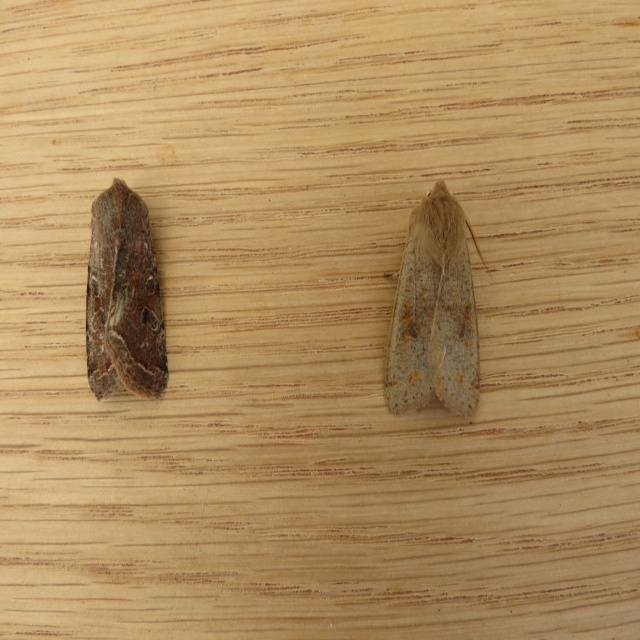Moths and butterflies: (384, 179, 495, 422), (83, 175, 170, 402)
